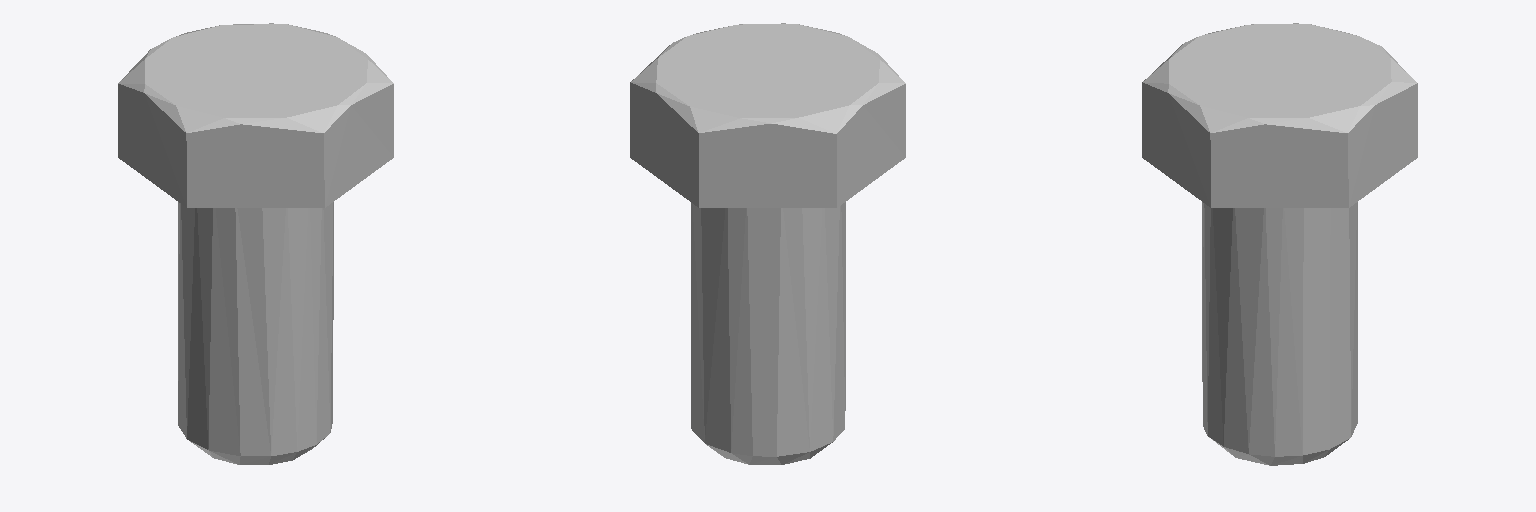
Rendered from m42 bolts.obj.
3 renders of one model, left to right at view 1: azimuth 30°, elevation 25°; view 2: azimuth 150°, elevation 25°; view 3: azimuth 270°, elevation 25°, orthographic.
Parts seen in each view (by area): view 1: imagetostl_mesh; view 2: imagetostl_mesh; view 3: imagetostl_mesh.
Boxes of the visible parts, box(x1,y1,x2,y2) form: imagetostl_mesh: box(118, 23, 393, 464); imagetostl_mesh: box(630, 23, 905, 464); imagetostl_mesh: box(1142, 23, 1417, 465).
Size of the model in its own units: 65.14 by 111 by 75.06.